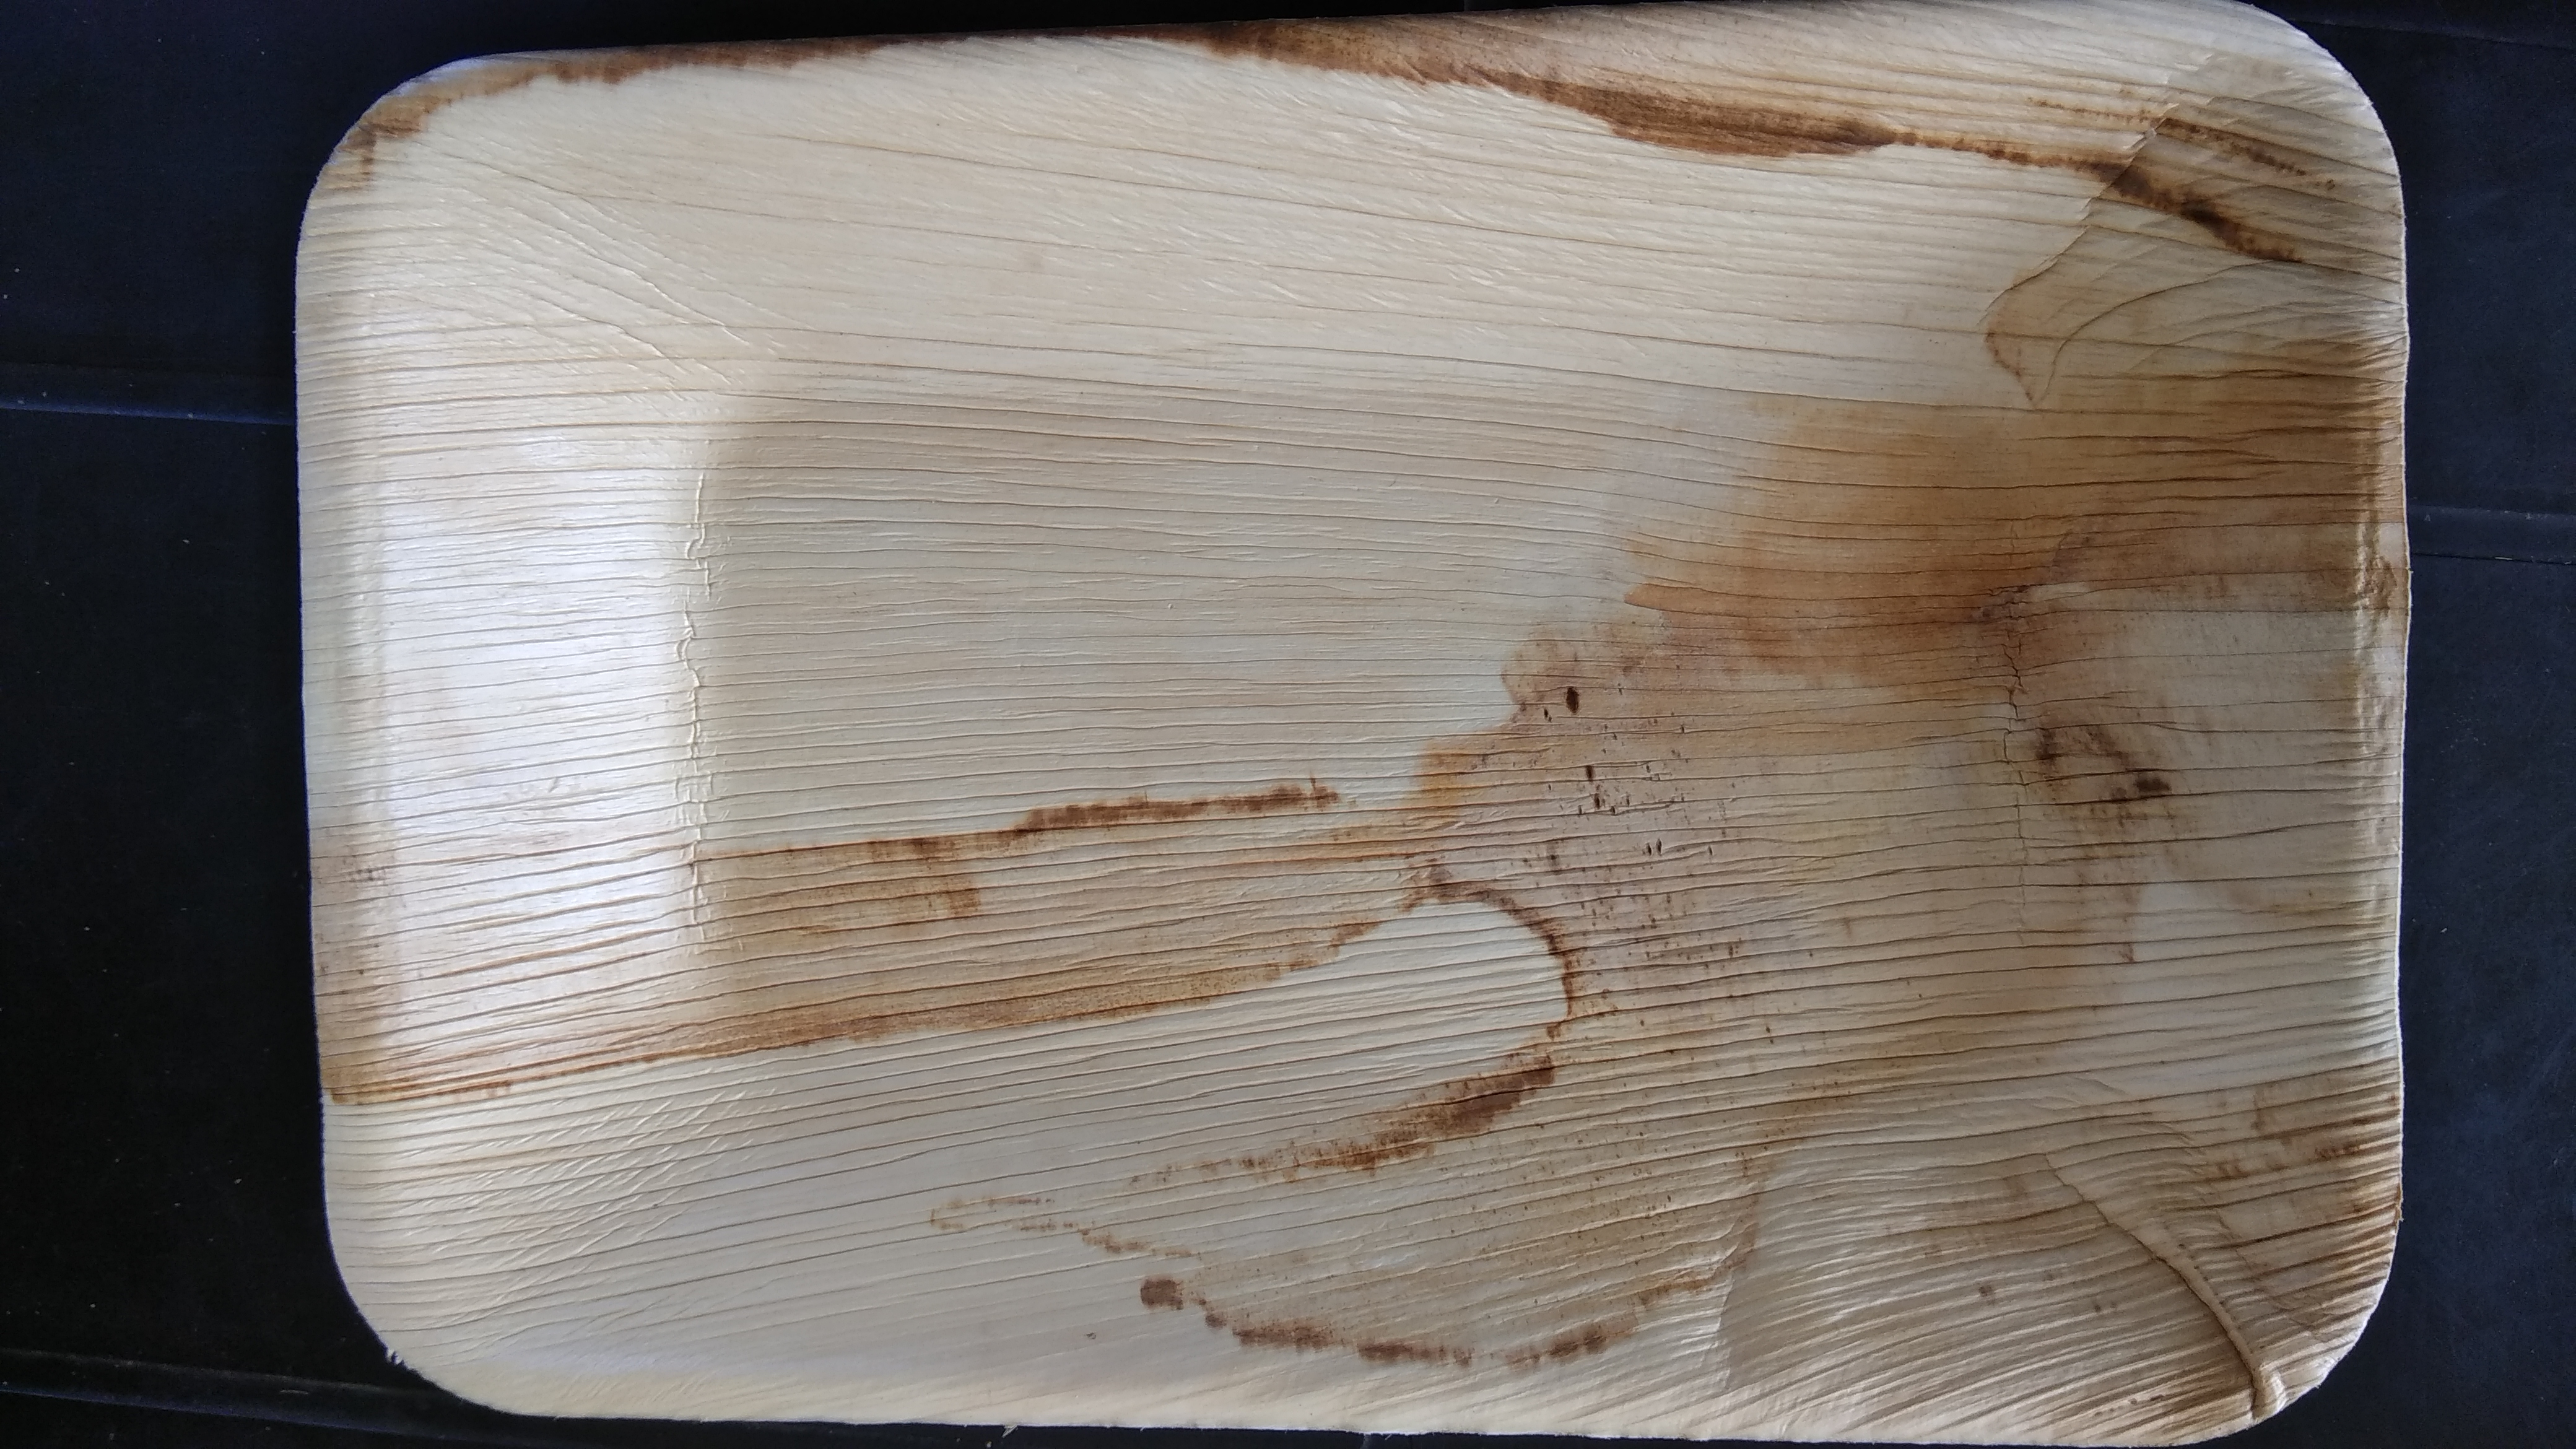areca plate: (290, 32, 2390, 1449)
